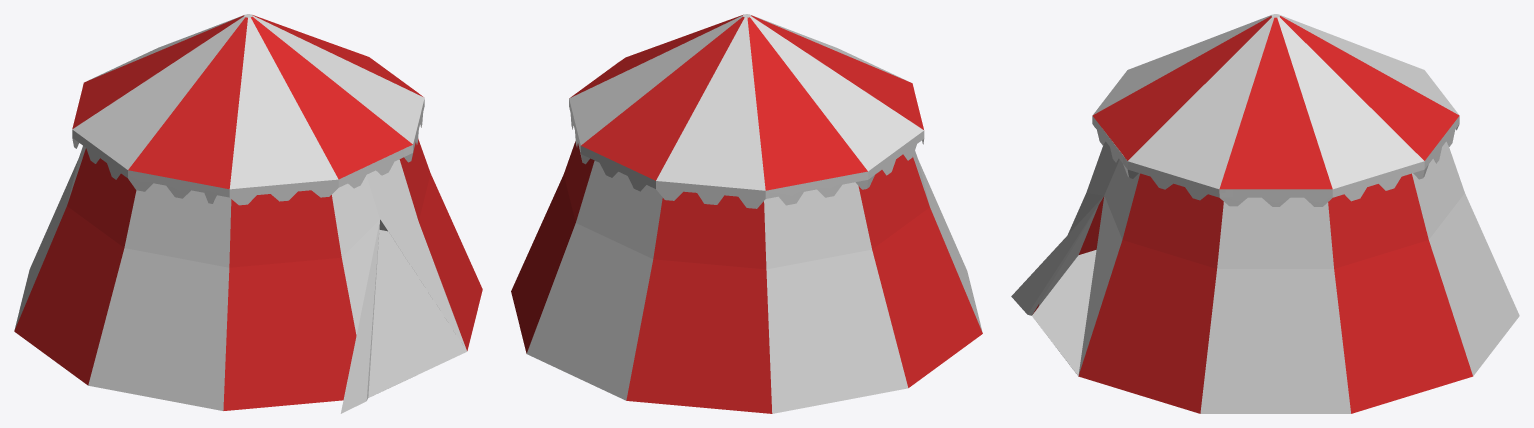
The model's file is knight tent.fbx.
3 renders of one model, left to right at view 1: azimuth 30°, elevation 25°; view 2: azimuth 150°, elevation 25°; view 3: azimuth 270°, elevation 25°, orthographic.
Parts seen in each view (by area): view 1: TentRound; view 2: TentRound; view 3: TentRound.
Part boxes in pixels (x1,y1,x2,y2): TentRound: (14, 14, 482, 413); TentRound: (511, 14, 982, 413); TentRound: (1011, 14, 1519, 413).
Bounding box in the file's own units: 241 × 172 × 264.
